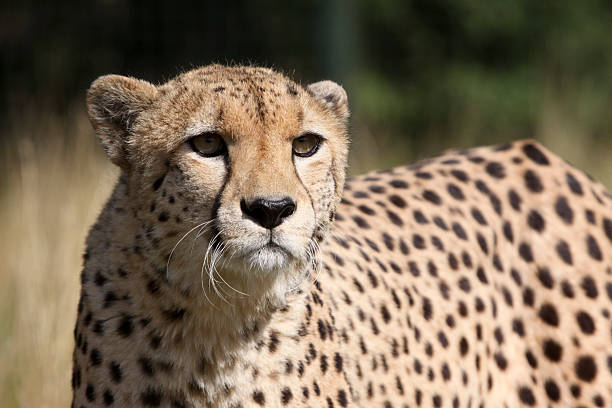cheetah: (83, 58, 363, 322)
